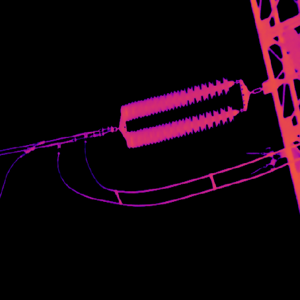insulator: (118, 75, 241, 148)
